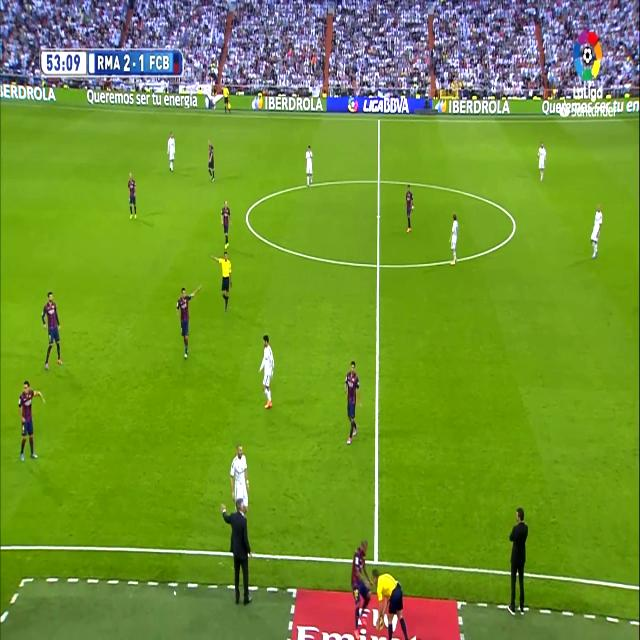halfcircle_bottom: (372, 252, 384, 278)
halfcircle_top: (374, 170, 384, 191)
midline_bottom_intersection: (366, 543, 384, 575)
midline_top_intersection: (376, 113, 382, 126)
